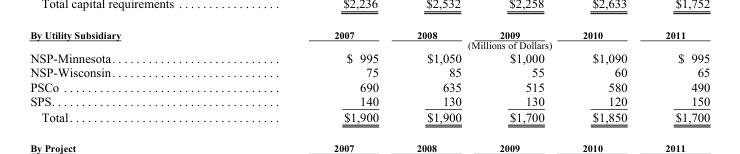table: (29, 28, 709, 123)
table column: (29, 28, 226, 123), (226, 28, 397, 123), (479, 28, 562, 123), (562, 28, 645, 123), (397, 28, 479, 123), (645, 28, 709, 123)
table column header: (29, 28, 709, 50)
table row: (29, 64, 709, 79), (29, 93, 709, 108), (29, 108, 709, 123), (29, 50, 709, 64), (29, 79, 709, 93), (29, 28, 709, 39), (29, 39, 709, 50)
table spanning cell: (226, 39, 709, 50), (29, 28, 226, 50)
